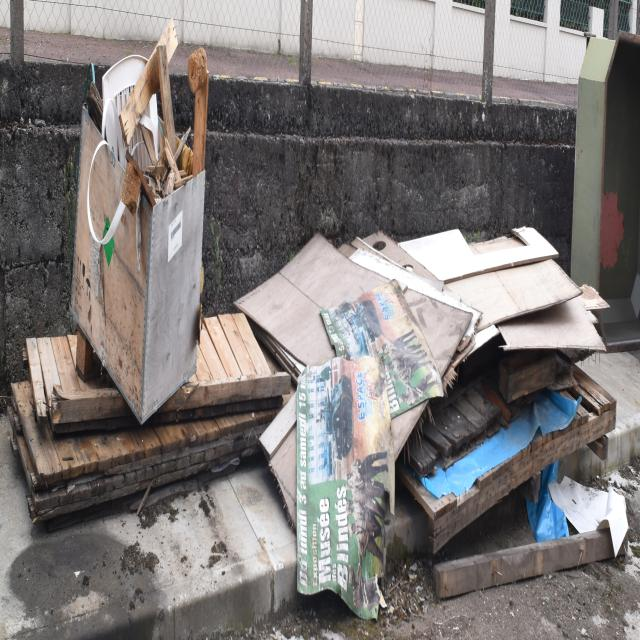entulho: (6, 304, 292, 530), (80, 50, 208, 433), (382, 386, 540, 546), (432, 515, 628, 602), (233, 225, 343, 379), (495, 255, 622, 352), (442, 247, 576, 335), (393, 230, 483, 286)
